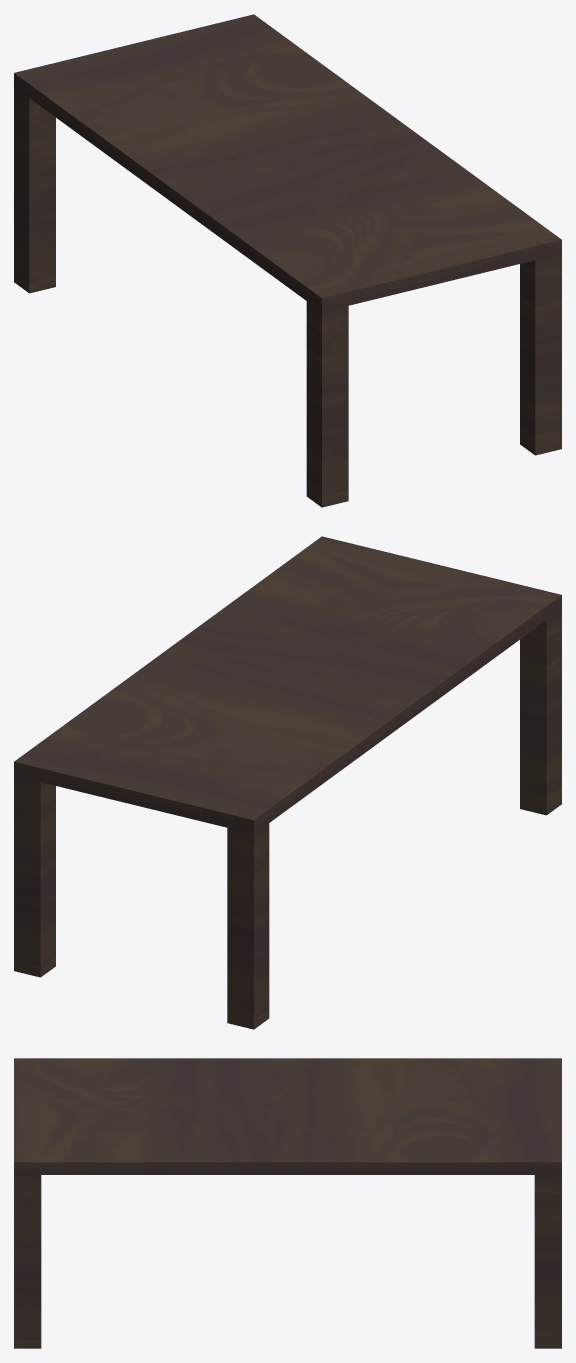
Rendered from desktop.fbx.
3 renders of one model, top to bottom at view 1: azimuth 30°, elevation 25°; view 2: azimuth 150°, elevation 25°; view 3: azimuth 270°, elevation 25°, orthographic. The views are drawn at different scales.
Visible parts, largest first — view 1: desktop.001; view 2: desktop.001; view 3: desktop.001.
Boxes of the visible parts, x1=… form: desktop.001: x1=14, y1=14, x2=561, y2=507; desktop.001: x1=14, y1=536, x2=561, y2=1029; desktop.001: x1=14, y1=1058, x2=561, y2=1348.
Size of the model in its own units: 0.9976 by 0.8313 by 2.22.
Materials: 1 (1 with a texture image).
